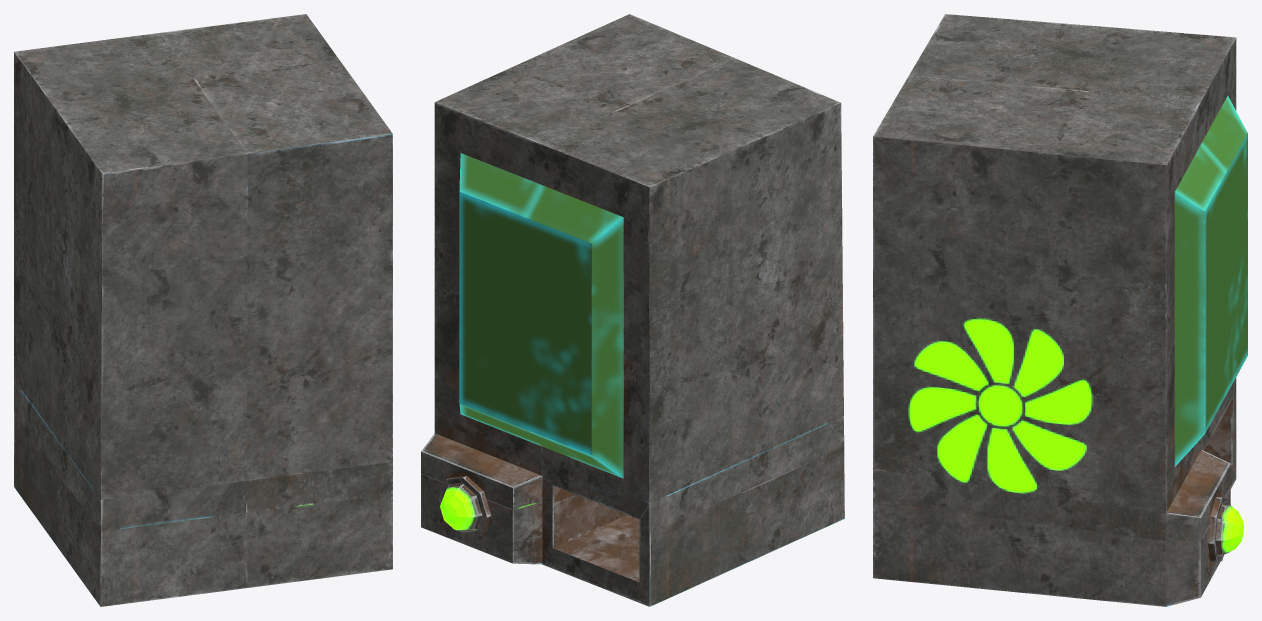
The model's file is POWERGUIDO.fbx.
3 views of the same model, side by side, from view 1: azimuth 30°, elevation 25°; view 2: azimuth 150°, elevation 25°; view 3: azimuth 270°, elevation 25° (orthographic). The views are drawn at different scales.
Parts seen in each view (by area): view 1: POWERUP; view 2: POWERUP; view 3: POWERUP.
Part boxes in pixels (x1=…): POWERUP: x1=14, y1=14, x2=392, y2=606; POWERUP: x1=421, y1=14, x2=844, y2=606; POWERUP: x1=873, y1=14, x2=1247, y2=606.
Bounding box in the file's own units: 257 × 339 × 260.
